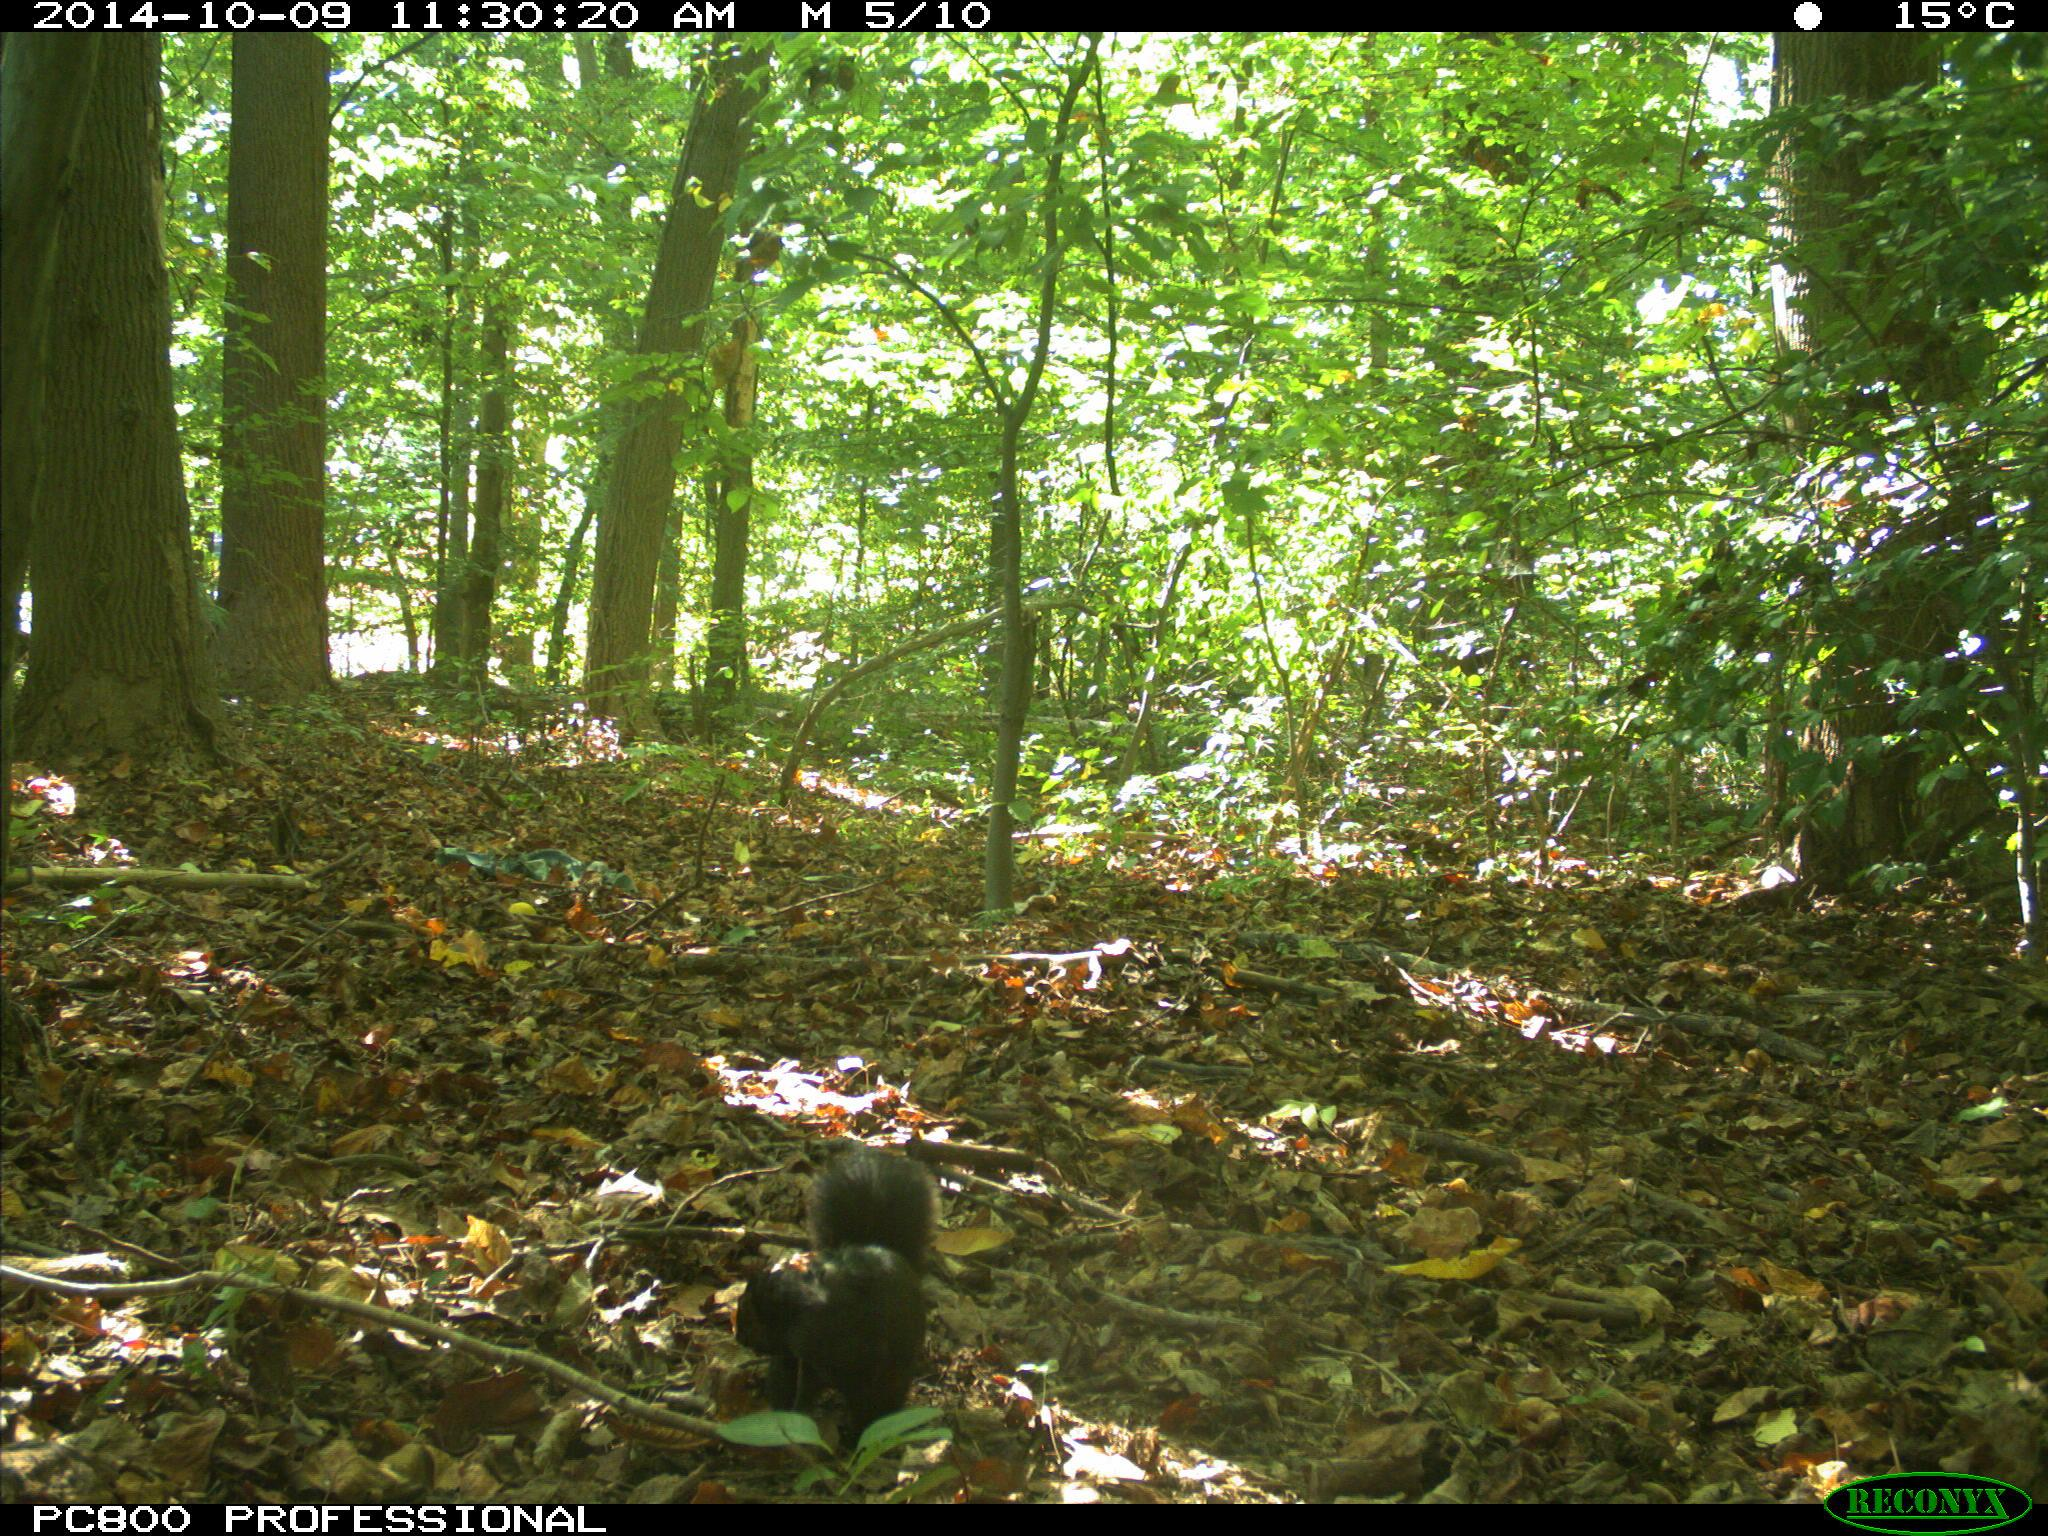Animal: (732, 1146, 934, 1428)
